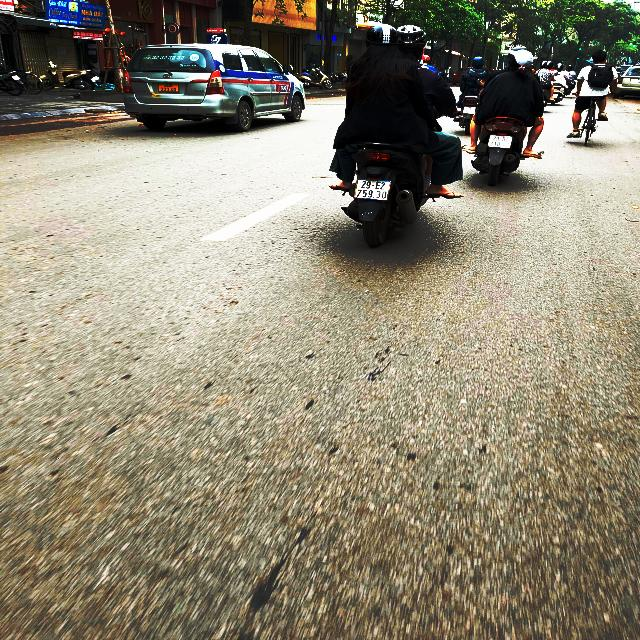license_plate: (354, 179, 393, 202), (488, 135, 515, 150)
